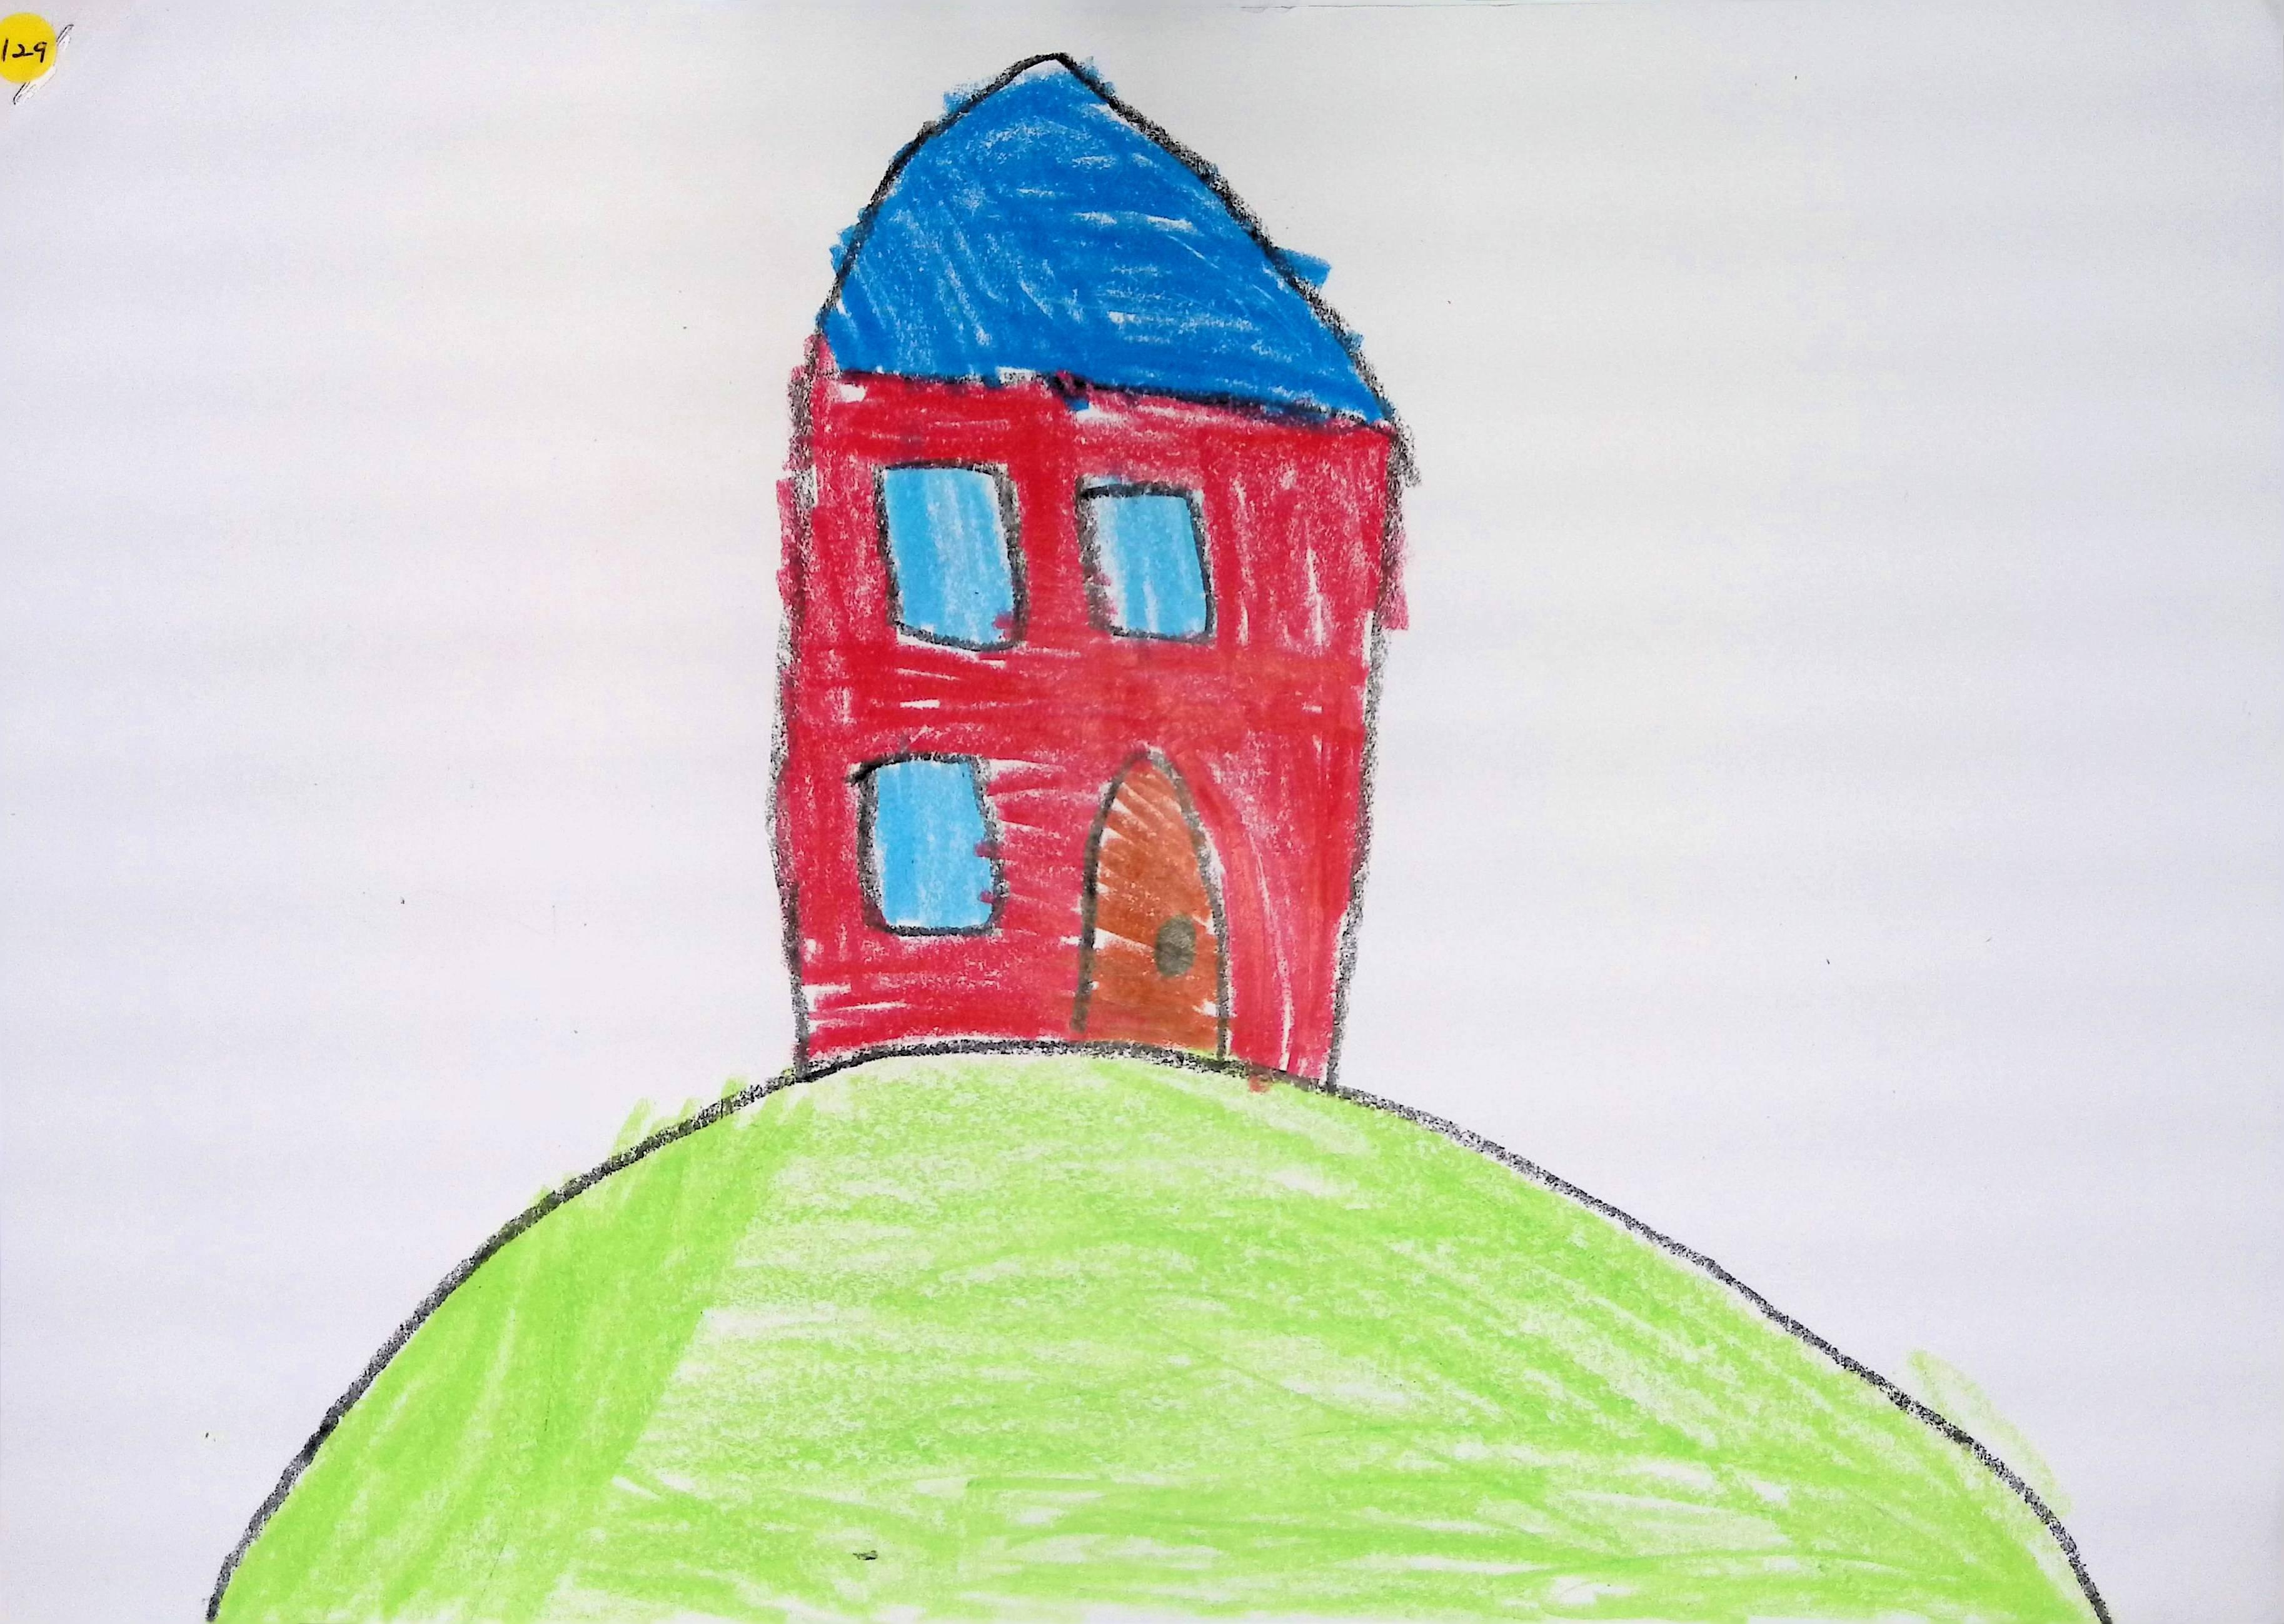door: (1073, 756, 1224, 1051)
house: (775, 51, 1405, 1074)
roof: (812, 54, 1408, 439)
wall: (772, 362, 1396, 1086)
window: (883, 464, 1015, 645), (867, 758, 995, 932), (1087, 487, 1208, 636)
